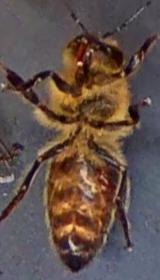varroa_mite: (88, 156, 120, 201)
